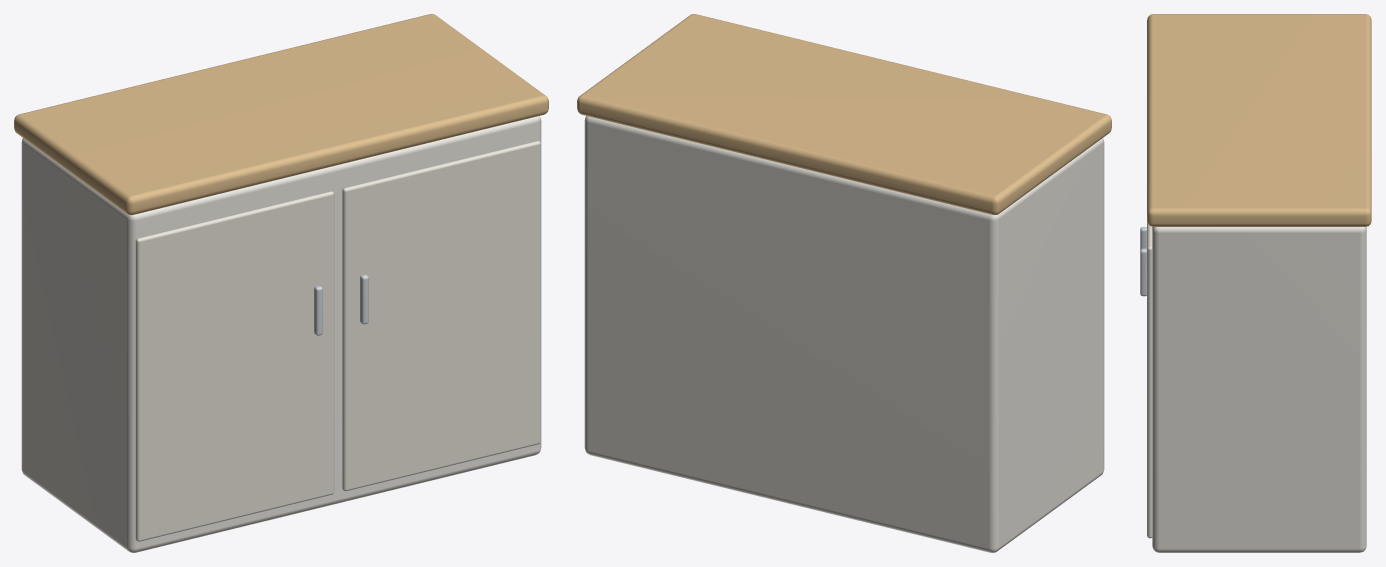
File: lowcab.glb
3 renders of one model, left to right at view 1: azimuth 30°, elevation 25°; view 2: azimuth 150°, elevation 25°; view 3: azimuth 270°, elevation 25°, orthographic. The views are drawn at different scales.
Parts seen in each view (by area): view 1: Cube.002, Cube, Cube.001, Cube.003; view 2: Cube, Cube.001; view 3: Cube, Cube.001, Cube.002, Cube.003.
Boxes of the visible parts, x1=… form: Cube.002: x1=135, y1=141, x2=540, y2=541; Cube: x1=21, y1=116, x2=541, y2=552; Cube.001: x1=14, y1=14, x2=548, y2=215; Cube.003: x1=314, y1=274, x2=368, y2=335; Cube: x1=584, y1=116, x2=1104, y2=552; Cube.001: x1=577, y1=14, x2=1111, y2=215; Cube: x1=1152, y1=226, x2=1366, y2=552; Cube.001: x1=1147, y1=14, x2=1371, y2=226; Cube.002: x1=1147, y1=221, x2=1152, y2=538; Cube.003: x1=1140, y1=227, x2=1146, y2=296.
Bounding box in the file's own units: 0.92 × 0.75 × 0.4535.
